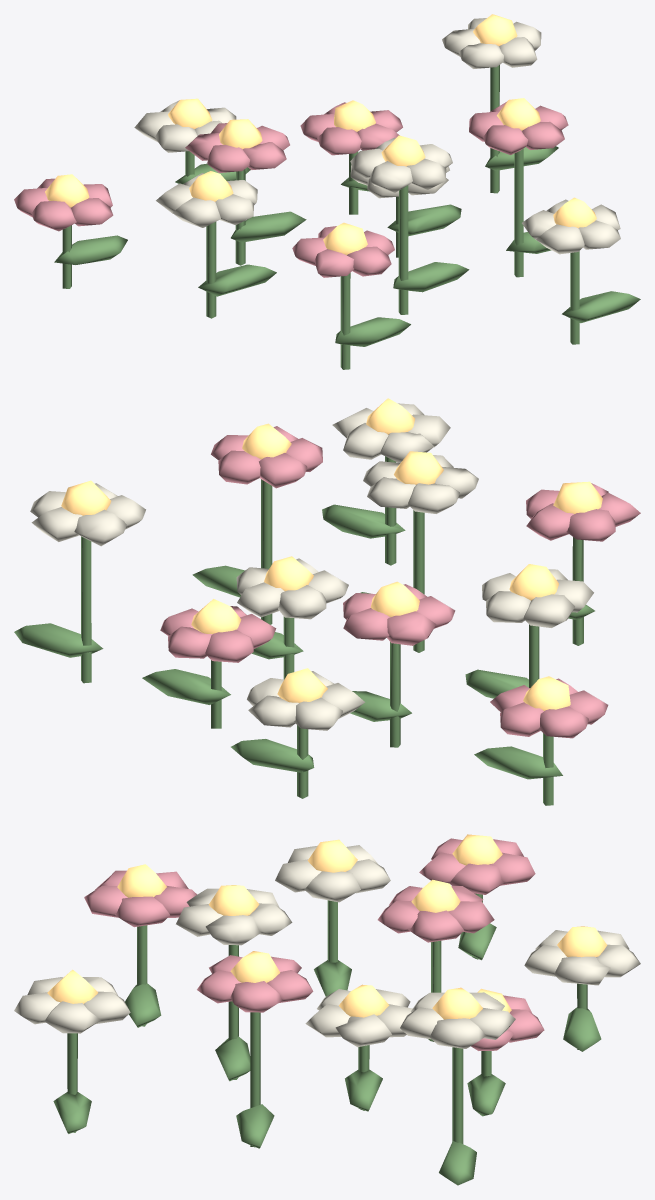
Rendered from flower-patch-lod1.glb.
The picture shows the model from 3 angles, top to bottom: view 1: azimuth 30°, elevation 25°; view 2: azimuth 150°, elevation 25°; view 3: azimuth 270°, elevation 25°; orthographic projection. The views are drawn at different scales.
Visible parts, largest first — view 1: flower-patch-lod1; view 2: flower-patch-lod1; view 3: flower-patch-lod1.
Boxes of the visible parts, x1,y1,x2,y2 form: flower-patch-lod1: [14, 14, 640, 369]; flower-patch-lod1: [14, 398, 640, 805]; flower-patch-lod1: [14, 834, 640, 1185].
Bounding box in the file's own units: 1.45 × 0.4611 × 1.36.
